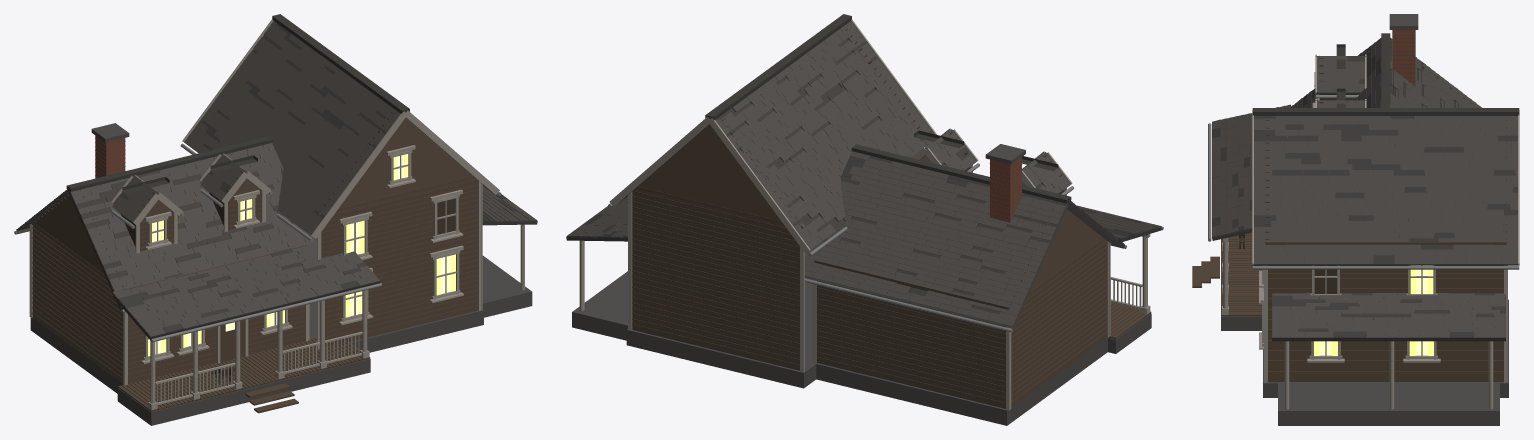
The model's file is house.glb.
3 views of the same model, side by side, from view 1: azimuth 30°, elevation 25°; view 2: azimuth 150°, elevation 25°; view 3: azimuth 270°, elevation 25° (orthographic). The views are drawn at different scales.
Parts seen in each view (by area): view 1: House_roof, House_siding, House_trim, House_roof2, House_stone, House_deck, House_curtain, House_glass, House_metal, House_brick, House_wall; view 2: House_siding, House_roof, House_stone, House_roof2, House_trim, House_brick, House_metal, House_deck; view 3: House_roof, House_roof2, House_siding, House_stone, House_trim, House_deck, House_metal, House_brick, House_wall, House_glass, House_curtain.
Part boxes in pixels (left/top/right/bottom): House_roof: left=16, top=21, right=537, bottom=336; House_siding: left=31, top=27, right=478, bottom=383; House_trim: left=29, top=19, right=524, bottom=410; House_roof2: left=16, top=14, right=537, bottom=340; House_stone: left=30, top=123, right=532, bottom=425; House_deck: left=118, top=320, right=370, bottom=413; House_curtain: left=148, top=154, right=455, bottom=356; House_glass: left=154, top=155, right=450, bottom=354; House_metal: left=14, top=143, right=501, bottom=342; House_brick: left=95, top=135, right=125, bottom=178; House_wall: left=90, top=28, right=455, bottom=285; House_siding: left=632, top=28, right=1107, bottom=408; House_roof: left=566, top=21, right=1161, bottom=326; House_stone: left=572, top=144, right=1151, bottom=425; House_roof2: left=566, top=14, right=1161, bottom=328; House_trim: left=579, top=19, right=1150, bottom=410; House_brick: left=990, top=157, right=1021, bottom=221; House_metal: left=608, top=163, right=1163, bottom=332; House_deck: left=1109, top=302, right=1151, bottom=339; House_roof: left=1212, top=38, right=1517, bottom=338; House_roof2: left=1212, top=33, right=1519, bottom=341; House_siding: left=1265, top=41, right=1506, bottom=381; House_stone: left=1221, top=14, right=1508, bottom=425; House_trim: left=1222, top=54, right=1519, bottom=409; House_deck: left=1192, top=232, right=1261, bottom=316; House_metal: left=1208, top=95, right=1519, bottom=269; House_brick: left=1392, top=30, right=1415, bottom=85; House_wall: left=1266, top=42, right=1471, bottom=293; House_glass: left=1318, top=98, right=1428, bottom=355; House_curtain: left=1314, top=265, right=1433, bottom=355.
Bounding box in the file's own units: 16.5 × 9.06 × 10.92.
